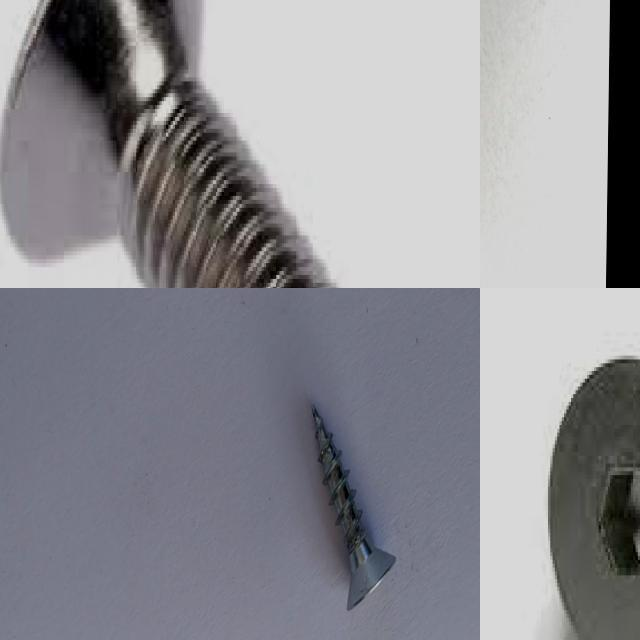Screw: (0, 0, 339, 288), (546, 359, 640, 640), (312, 404, 396, 610)
